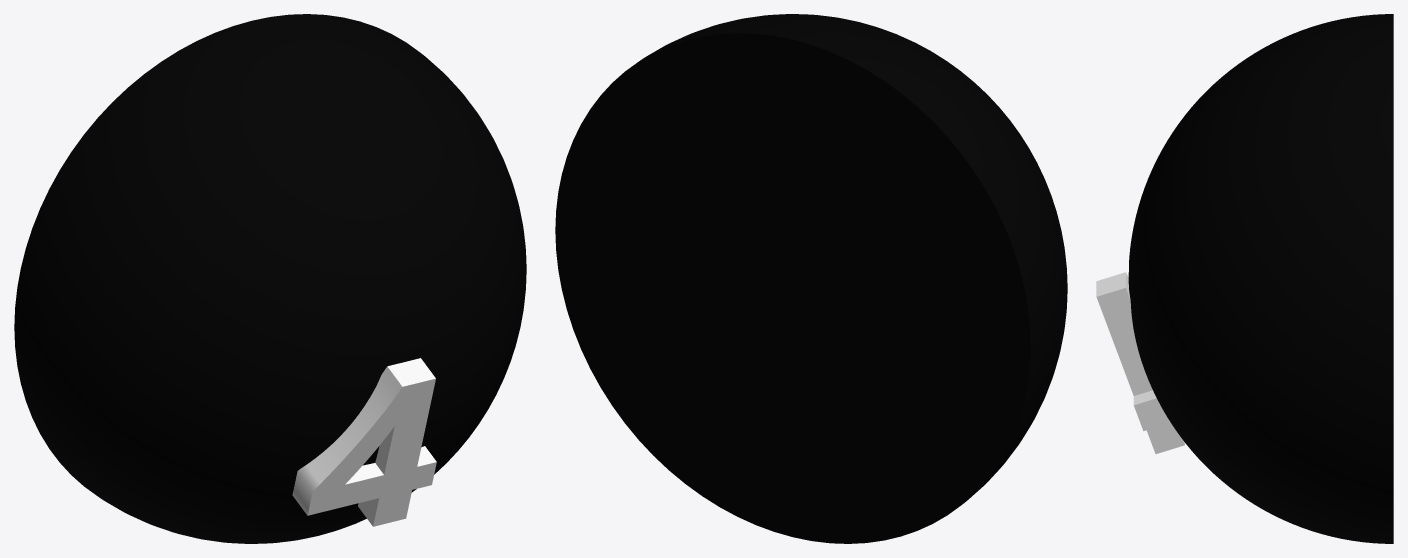
File: button4.fbx
The picture shows the model from 3 angles, left to right: view 1: azimuth 30°, elevation 25°; view 2: azimuth 150°, elevation 25°; view 3: azimuth 270°, elevation 25°; orthographic projection. The views are drawn at different scales.
Parts seen in each view (by area): view 1: root, node_id269; view 2: root; view 3: root, node_id269.
Part boxes in pixels (x1,y1,x2,y2): root: (14, 14, 526, 543); node_id269: (292, 358, 436, 526); root: (555, 14, 1067, 543); root: (1128, 14, 1393, 543); node_id269: (1096, 272, 1184, 453).
Bounding box in the file's own units: 0.4739 × 0.4739 × 0.2655.
Materials: 2 (2 with a texture image).
